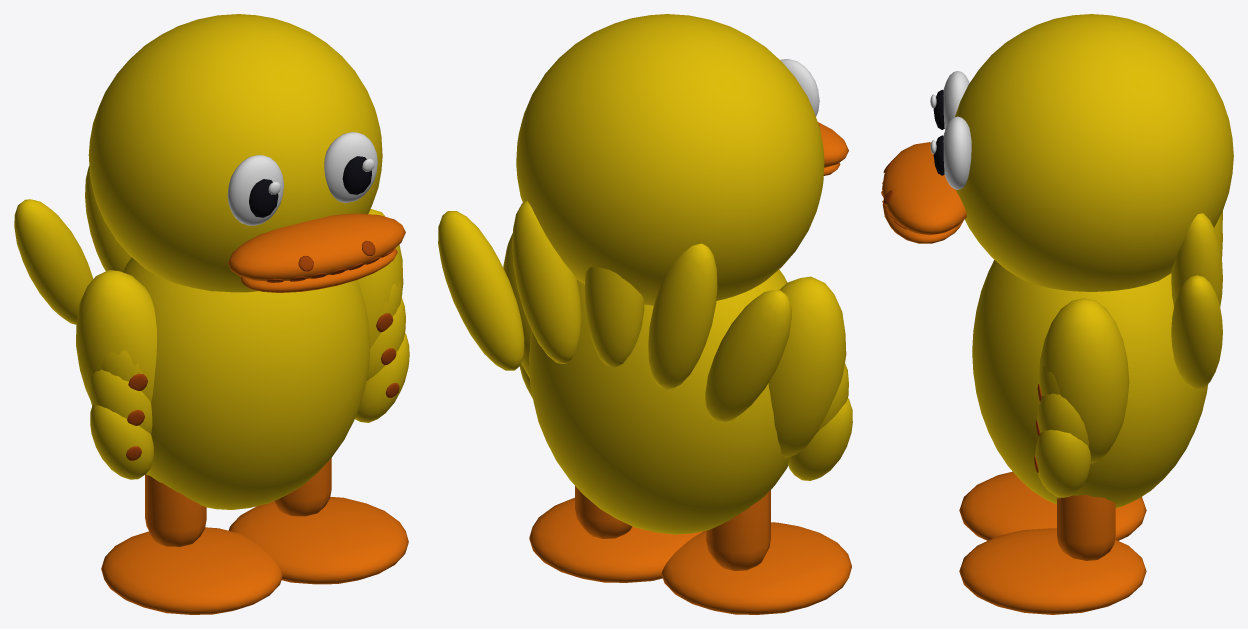
Rendered from duck.glb.
3 renders of one model, left to right at view 1: azimuth 30°, elevation 25°; view 2: azimuth 150°, elevation 25°; view 3: azimuth 270°, elevation 25°, orthographic. The views are drawn at different scales.
Visible parts, largest first — view 1: duck; view 2: duck; view 3: duck.
Boxes of the visible parts, x1,y1,x2,y2 form: duck: (14,14,409,614); duck: (438,14,852,614); duck: (881,14,1233,614).
Bounding box in the file's own units: 0.7499 × 1.15 × 0.6889.
